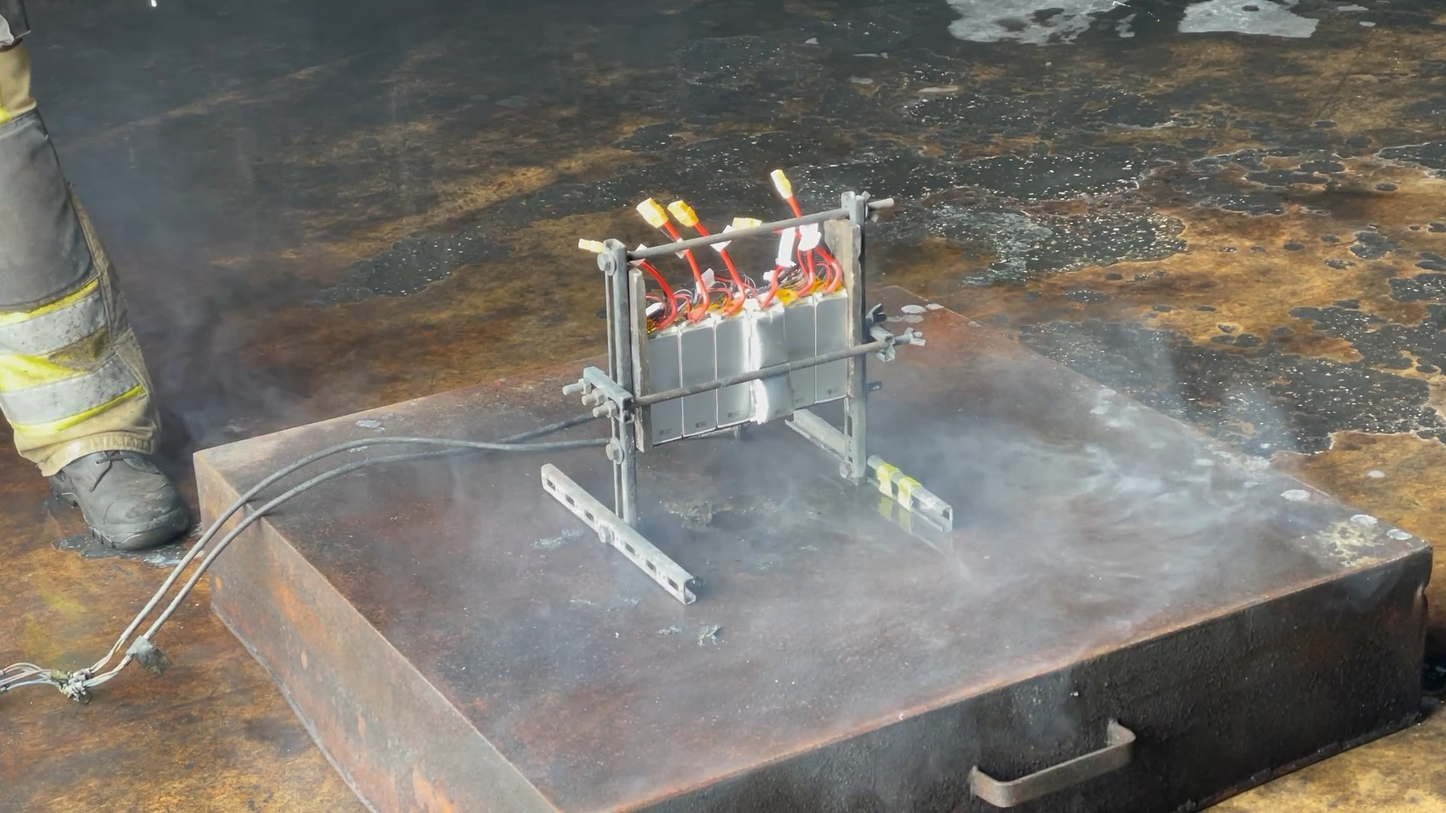smoke: (41, 25, 541, 449), (790, 301, 1301, 667)
